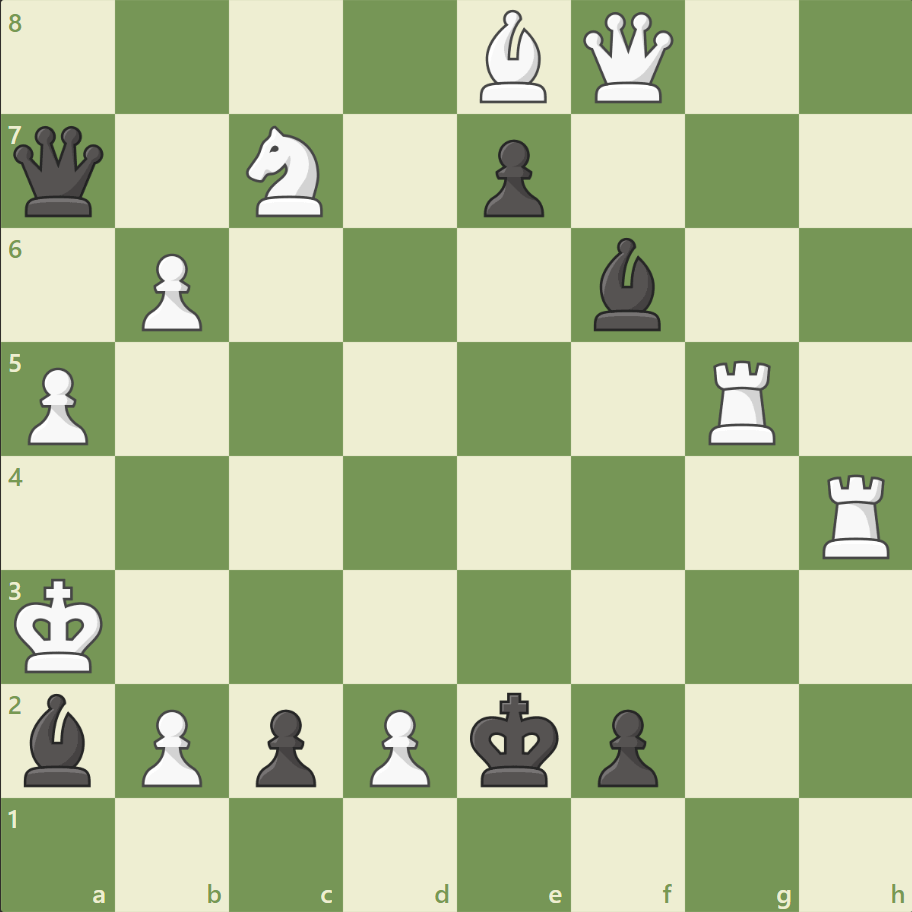B: (471, 6, 555, 109)
K: (11, 571, 111, 679)
N: (238, 121, 335, 223)
P: (133, 246, 208, 337), (20, 359, 95, 450), (133, 700, 208, 791), (361, 700, 435, 791)
Q: (578, 9, 677, 108)
R: (700, 352, 783, 449), (814, 466, 897, 563)
b: (585, 233, 669, 336), (17, 687, 101, 790)
k: (465, 685, 565, 793)
p: (474, 132, 549, 223), (247, 700, 322, 791), (588, 700, 662, 791)
q: (10, 122, 109, 222)
